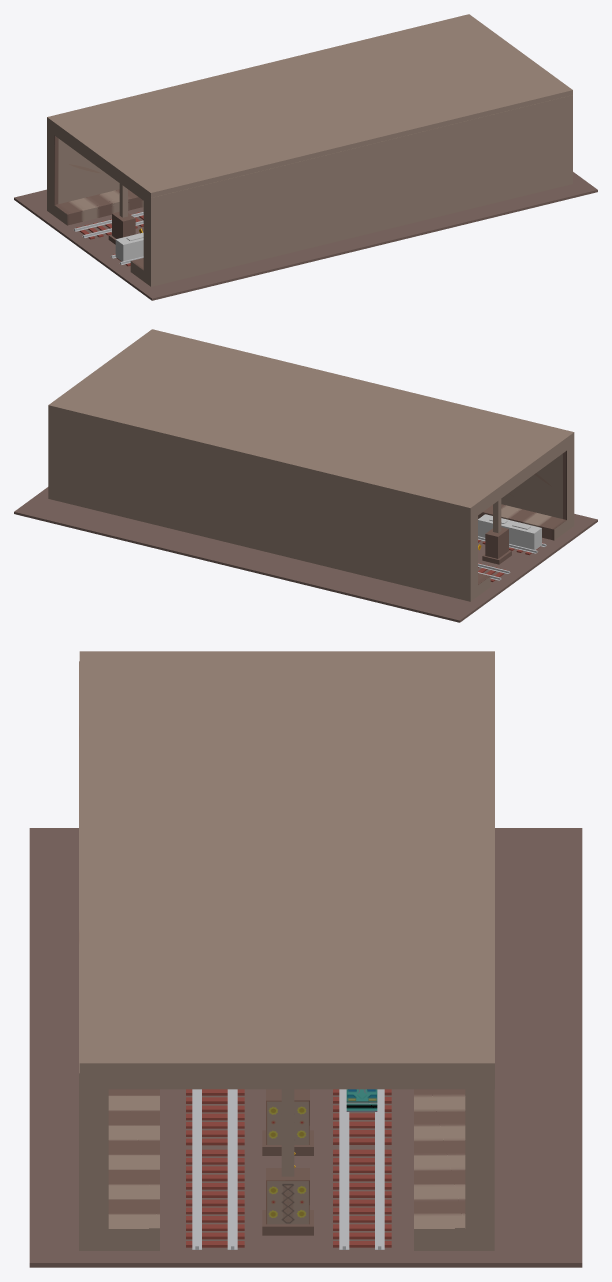
File: tunnel 2.fbx
The picture shows the model from 3 angles, top to bottom: view 1: azimuth 30°, elevation 25°; view 2: azimuth 150°, elevation 25°; view 3: azimuth 270°, elevation 25°; orthographic projection. The views are drawn at different scales.
Visible parts, largest first — view 1: Cube.168, Cube.162, ground.005, Cube.171, Cube.166; view 2: Cube.168, Cube.162, ground.005, Cube.171; view 3: Cube.162, ground.005, Cube.168, Cube.148, Cube.157, Cube.158, Cube.161.
Part boxes in pixels (x1,y1,x2,y2): Cube.168: (47, 65, 363, 286); Cube.162: (257, 14, 572, 234); ground.005: (14, 172, 597, 300); Cube.171: (115, 232, 143, 261); Cube.166: (73, 212, 143, 239); Cube.168: (258, 380, 574, 601); Cube.162: (48, 329, 361, 549); ground.005: (14, 487, 597, 622); Cube.171: (478, 514, 541, 549); Cube.162: (79, 858, 494, 1250); ground.005: (29, 828, 582, 1267); Cube.168: (79, 651, 494, 868); Cube.148: (186, 1141, 244, 1249); Cube.157: (333, 1141, 391, 1249); Cube.158: (186, 1089, 244, 1147); Cube.161: (333, 1089, 391, 1146).
Bounding box in the file's own units: 4200 × 864 × 2253.
